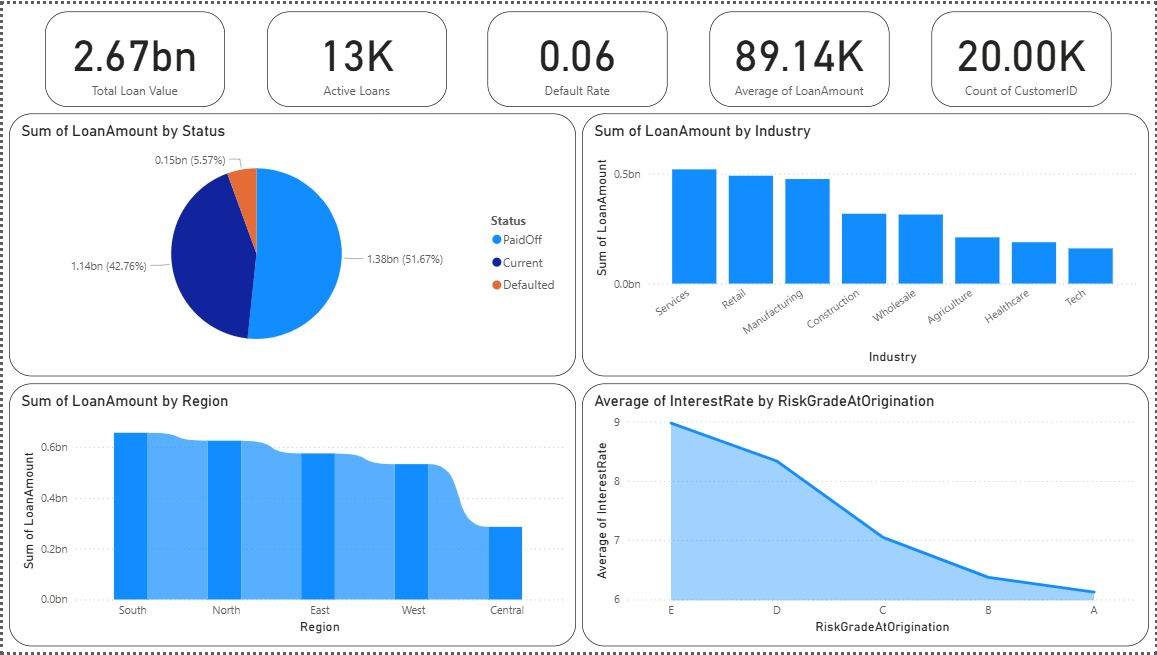

What the dashboard file says about the page in this screenshot:
{"tool":"powerbi","page":{"name":"Portfolio Summary","canvas":[1280,720],"ordinal":0},"visuals":[{"type":"card","fields":{"Values":["Loans.Total Loan Value"]},"box":[47,8,200,106],"z":0},{"type":"card","fields":{"Values":["Loans.Active Loans"]},"box":[294,8,200,106],"z":1000},{"type":"card","fields":{"Values":["Loans.Default Rate"]},"box":[539,8,200,106],"z":2000},{"type":"pieChart","fields":{"Category":["Loans.Status"],"Y":["Sum(Loans.LoanAmount)"]},"box":[6,122,630,292],"z":3000},{"type":"areaChart","fields":{"Category":["Loans.RiskGradeAtOrigination"],"Y":["Avg(Loans.InterestRate)"]},"box":[644,421,630,292],"z":4000},{"type":"ribbonChart","fields":{"Category":["Customers.Region"],"Y":["Sum(Loans.LoanAmount)"]},"box":[6,421,630,292],"z":5000},{"type":"columnChart","fields":{"Category":["Customers.Industry"],"Y":["Sum(Loans.LoanAmount)"]},"box":[644,122,630,292],"z":6000},{"type":"card","fields":{"Values":["Count(Customers.CustomerID)"]},"box":[1032,8,200,106],"z":7000},{"type":"card","fields":{"Values":["Avg(Loans.LoanAmount)"]},"box":[785,8,200,106],"z":8000}]}

Visuals, with their boxes in screenshot pixels (x1, y1, x2, y2), scaled from the page's 1280x720 canvas onto the 1157x655 screenshot:
card - Loans.Total Loan Value: pyautogui.locateOnScreen(42, 7, 223, 104)
card - Loans.Active Loans: pyautogui.locateOnScreen(266, 7, 447, 104)
card - Loans.Default Rate: pyautogui.locateOnScreen(487, 7, 668, 104)
pieChart - Loans.Status x Sum(Loans.LoanAmount): pyautogui.locateOnScreen(5, 111, 575, 377)
areaChart - Loans.RiskGradeAtOrigination x Avg(Loans.InterestRate): pyautogui.locateOnScreen(582, 383, 1152, 649)
ribbonChart - Customers.Region x Sum(Loans.LoanAmount): pyautogui.locateOnScreen(5, 383, 575, 649)
columnChart - Customers.Industry x Sum(Loans.LoanAmount): pyautogui.locateOnScreen(582, 111, 1152, 377)
card - Count(Customers.CustomerID): pyautogui.locateOnScreen(933, 7, 1114, 104)
card - Avg(Loans.LoanAmount): pyautogui.locateOnScreen(710, 7, 890, 104)
